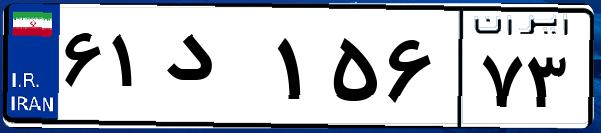1: (270, 28, 330, 110), (110, 28, 158, 98)
3: (525, 38, 570, 115)
5: (330, 28, 385, 110)
6: (385, 28, 445, 110), (57, 26, 110, 100)
7: (475, 38, 525, 113)
د: (158, 20, 270, 120)
